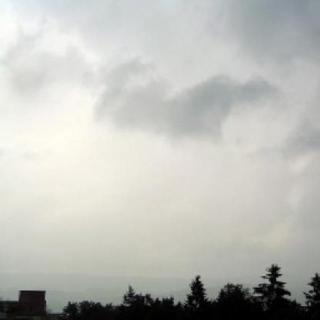Nimbostratus: (0, 0, 320, 282)
